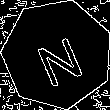N_NW: (28, 23, 86, 85)
